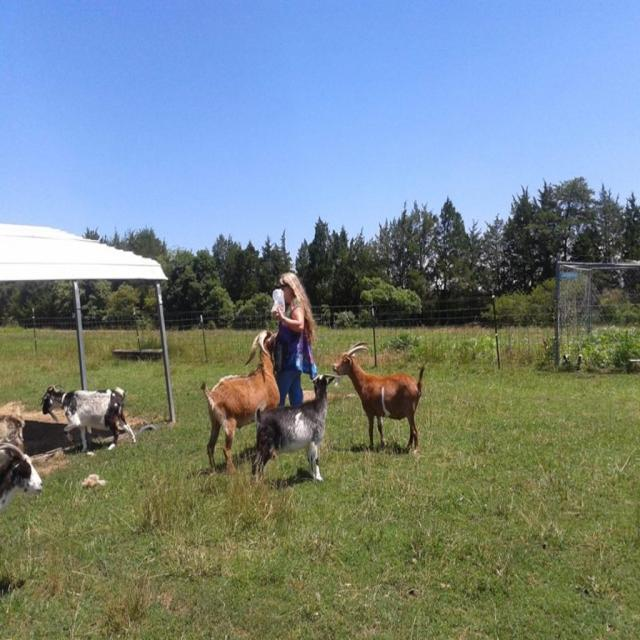Goat: (200, 328, 280, 474), (332, 340, 425, 452), (251, 373, 336, 483), (40, 384, 136, 453)
